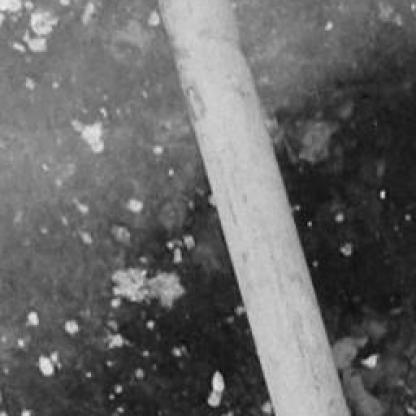PVC: (158, 3, 349, 414)
